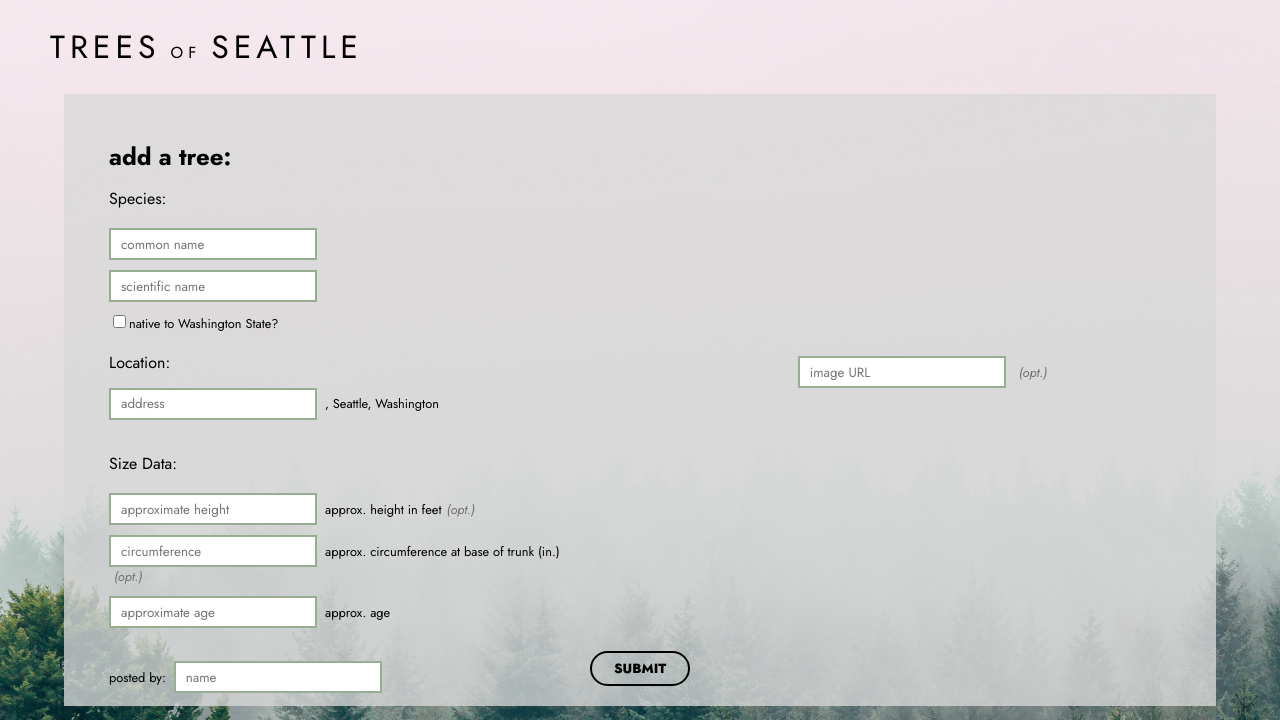
Test: New Tree Form › should have inputs for various numerical data
The width and height of the screenshot is (1280, 720).
Step 1. Type "150xyz" into the number field with test id "form-height" → (213, 509), box [109,493,317,525]
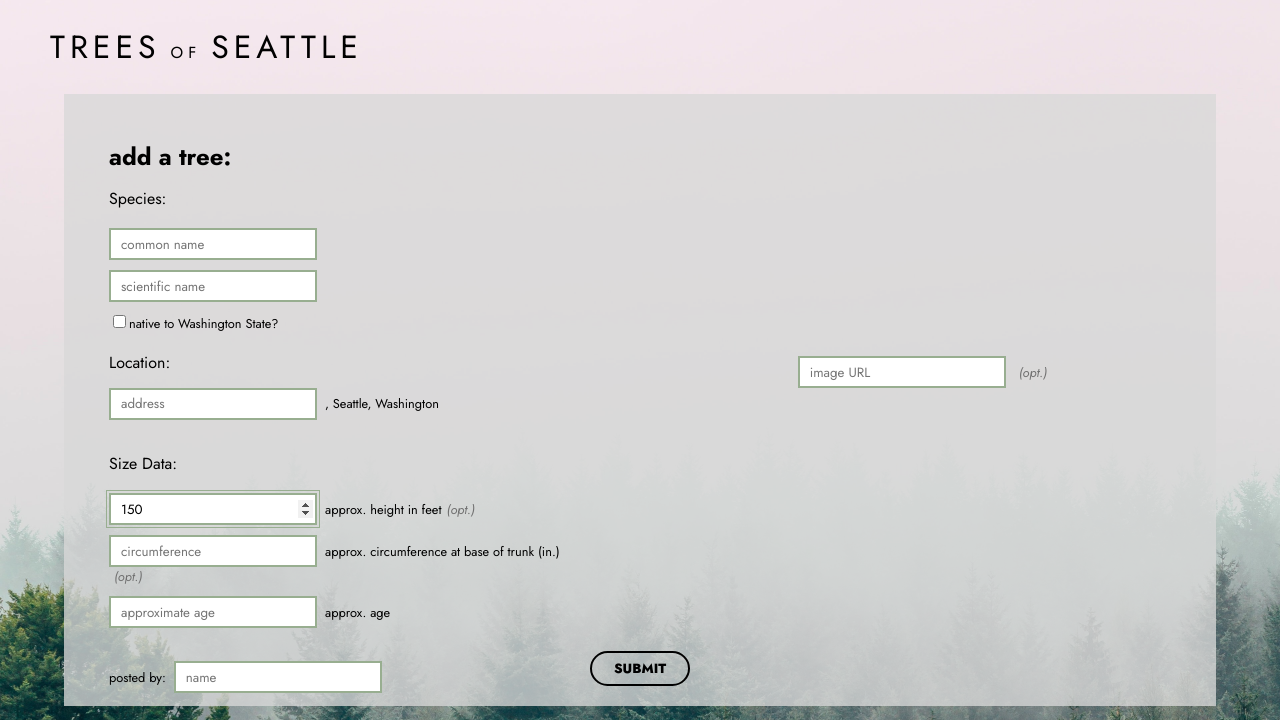
Check: the number field with test id "form-height" holds "150", box [109,493,317,525]
Step 2. Type "45abc" into the number field with test id "form-circ" → (213, 551), box [109,535,317,567]
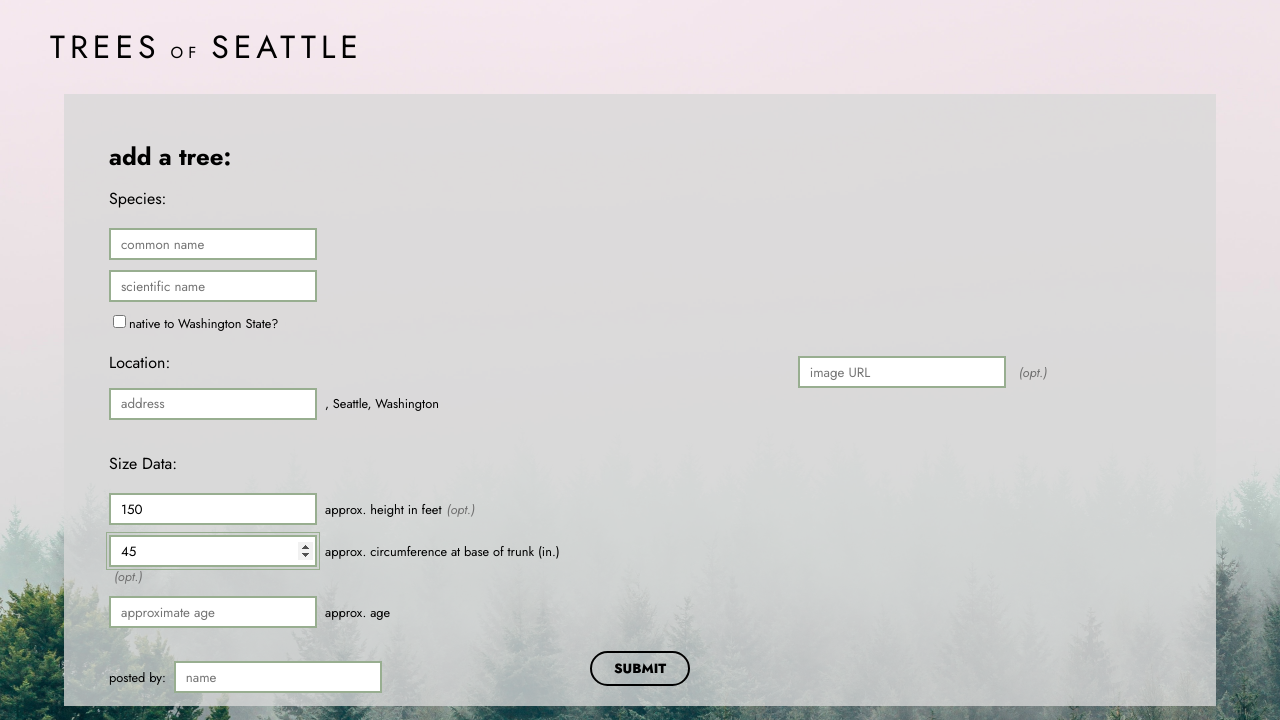
Check: the number field with test id "form-circ" holds "45", box [109,535,317,567]
Step 3. Type "110xyz" into the number field with test id "form-age" → (213, 612), box [109,596,317,628]
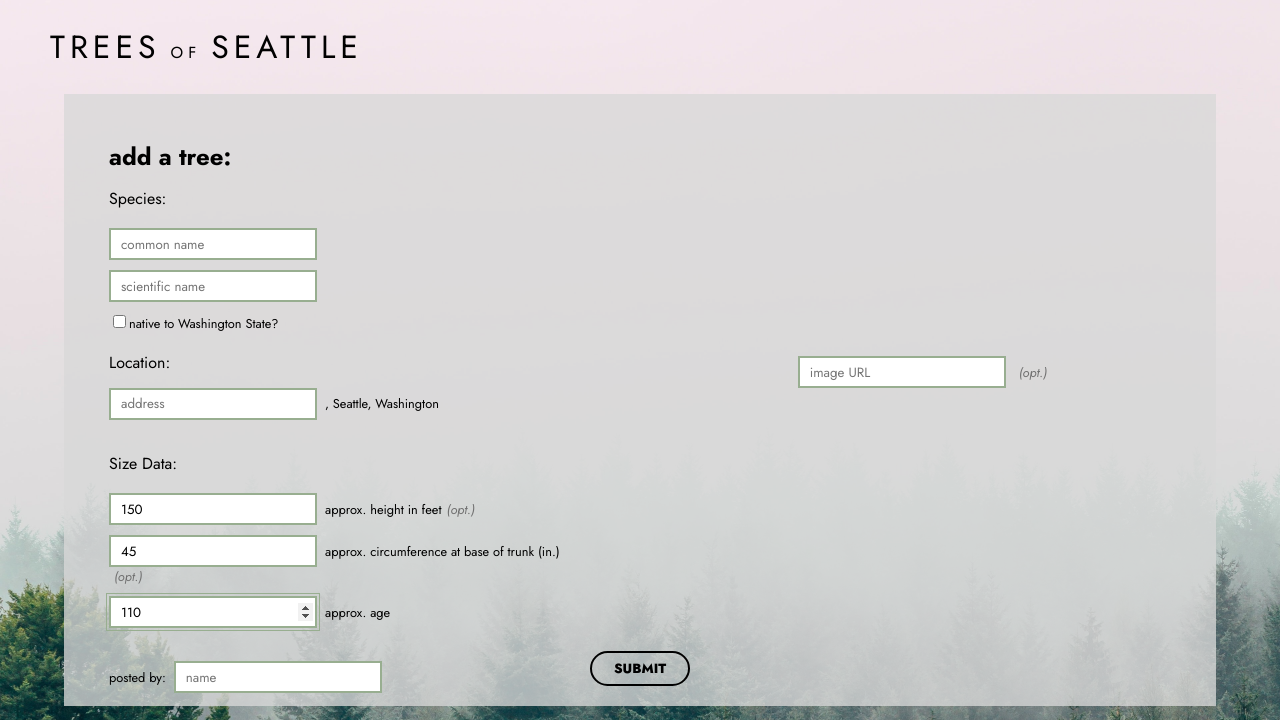
Check: the number field with test id "form-age" holds "110", box [109,596,317,628]
